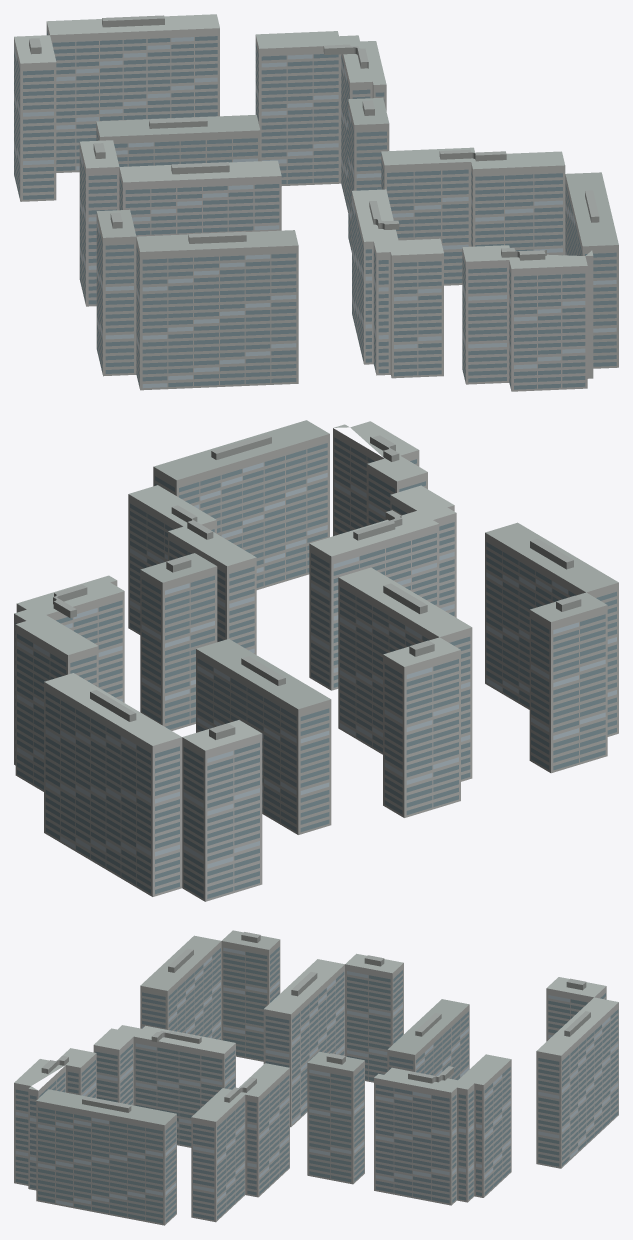
Rendered from apt-a10045404.glb.
3 renders of one model, top to bottom at view 1: azimuth 30°, elevation 25°; view 2: azimuth 150°, elevation 25°; view 3: azimuth 270°, elevation 25°, orthographic. The views are drawn at different scales.
Visible parts, largest first — view 1: apt-a10045404; view 2: apt-a10045404; view 3: apt-a10045404.
Boxes of the visible parts, x1,y1,x2,y2 form: apt-a10045404: (14, 14, 618, 391); apt-a10045404: (14, 420, 618, 901); apt-a10045404: (14, 930, 618, 1225).
Size of the model in its own units: 179 by 54 by 250.
